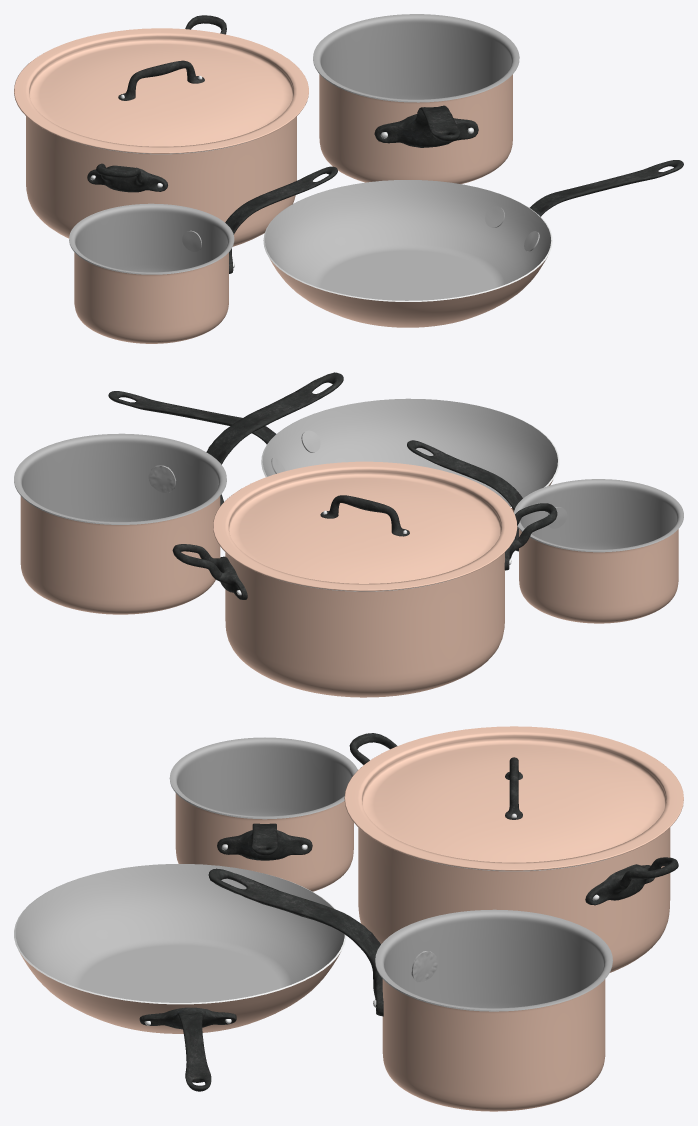
3 renders of one model, top to bottom at view 1: azimuth 30°, elevation 25°; view 2: azimuth 150°, elevation 25°; view 3: azimuth 270°, elevation 25°, orthographic. The views are drawn at different scales.
Parts seen in each view (by area): view 1: Copper-material (×5), AluminiumBrushed-material (×4), Cast_Iron-material (×5), Aluminium-material; view 2: Copper-material (×4), AluminiumBrushed-material (×5), Cast_Iron-material (×5); view 3: Copper-material (×5), AluminiumBrushed-material (×4), Cast_Iron-material (×5), Aluminium-material.
Part boxes in pixels (x1,y1,x2,y2): Copper-material (×5): [14, 28, 547, 343]; AluminiumBrushed-material (×4): [69, 14, 551, 300]; Cast_Iron-material (×5): [87, 15, 683, 273]; Aluminium-material: [263, 193, 552, 301]; Copper-material (×4): [20, 461, 678, 697]; AluminiumBrushed-material (×5): [14, 398, 683, 550]; Cast_Iron-material (×5): [108, 372, 557, 599]; Copper-material (×5): [20, 726, 683, 1111]; AluminiumBrushed-material (×4): [15, 737, 612, 1010]; Cast_Iron-material (×5): [139, 733, 678, 1091]; Aluminium-material: [14, 878, 346, 1004].
Size of the model in its own units: 1.25 by 0.2963 by 1.1.
5 materials, 1 textured.
